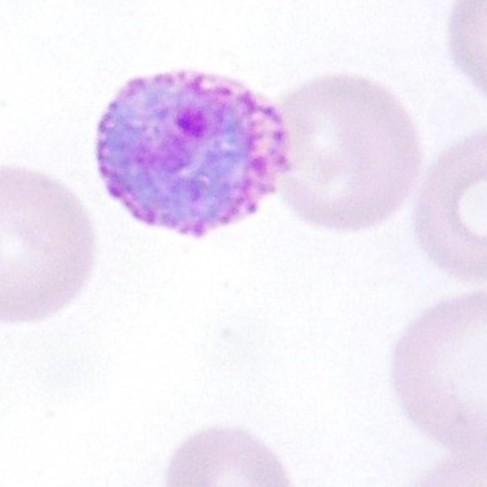Infected: (96, 67, 287, 238)
Uninfected: (275, 72, 422, 227)
